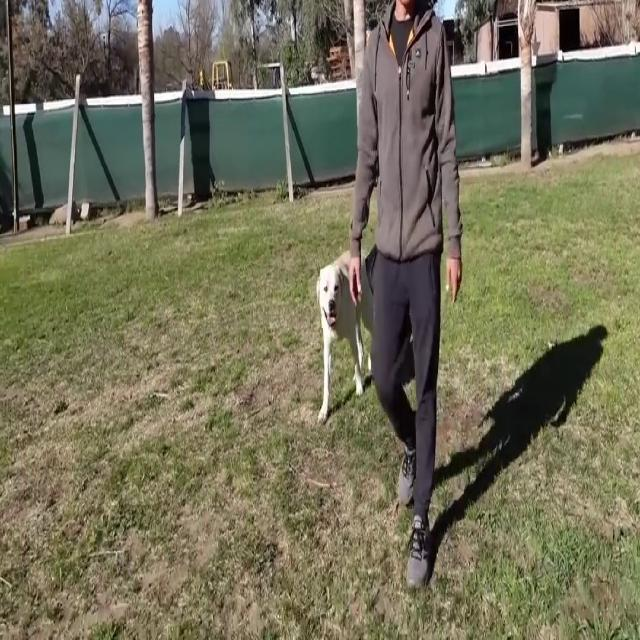Unleashed_Dog: (315, 239, 403, 426)
